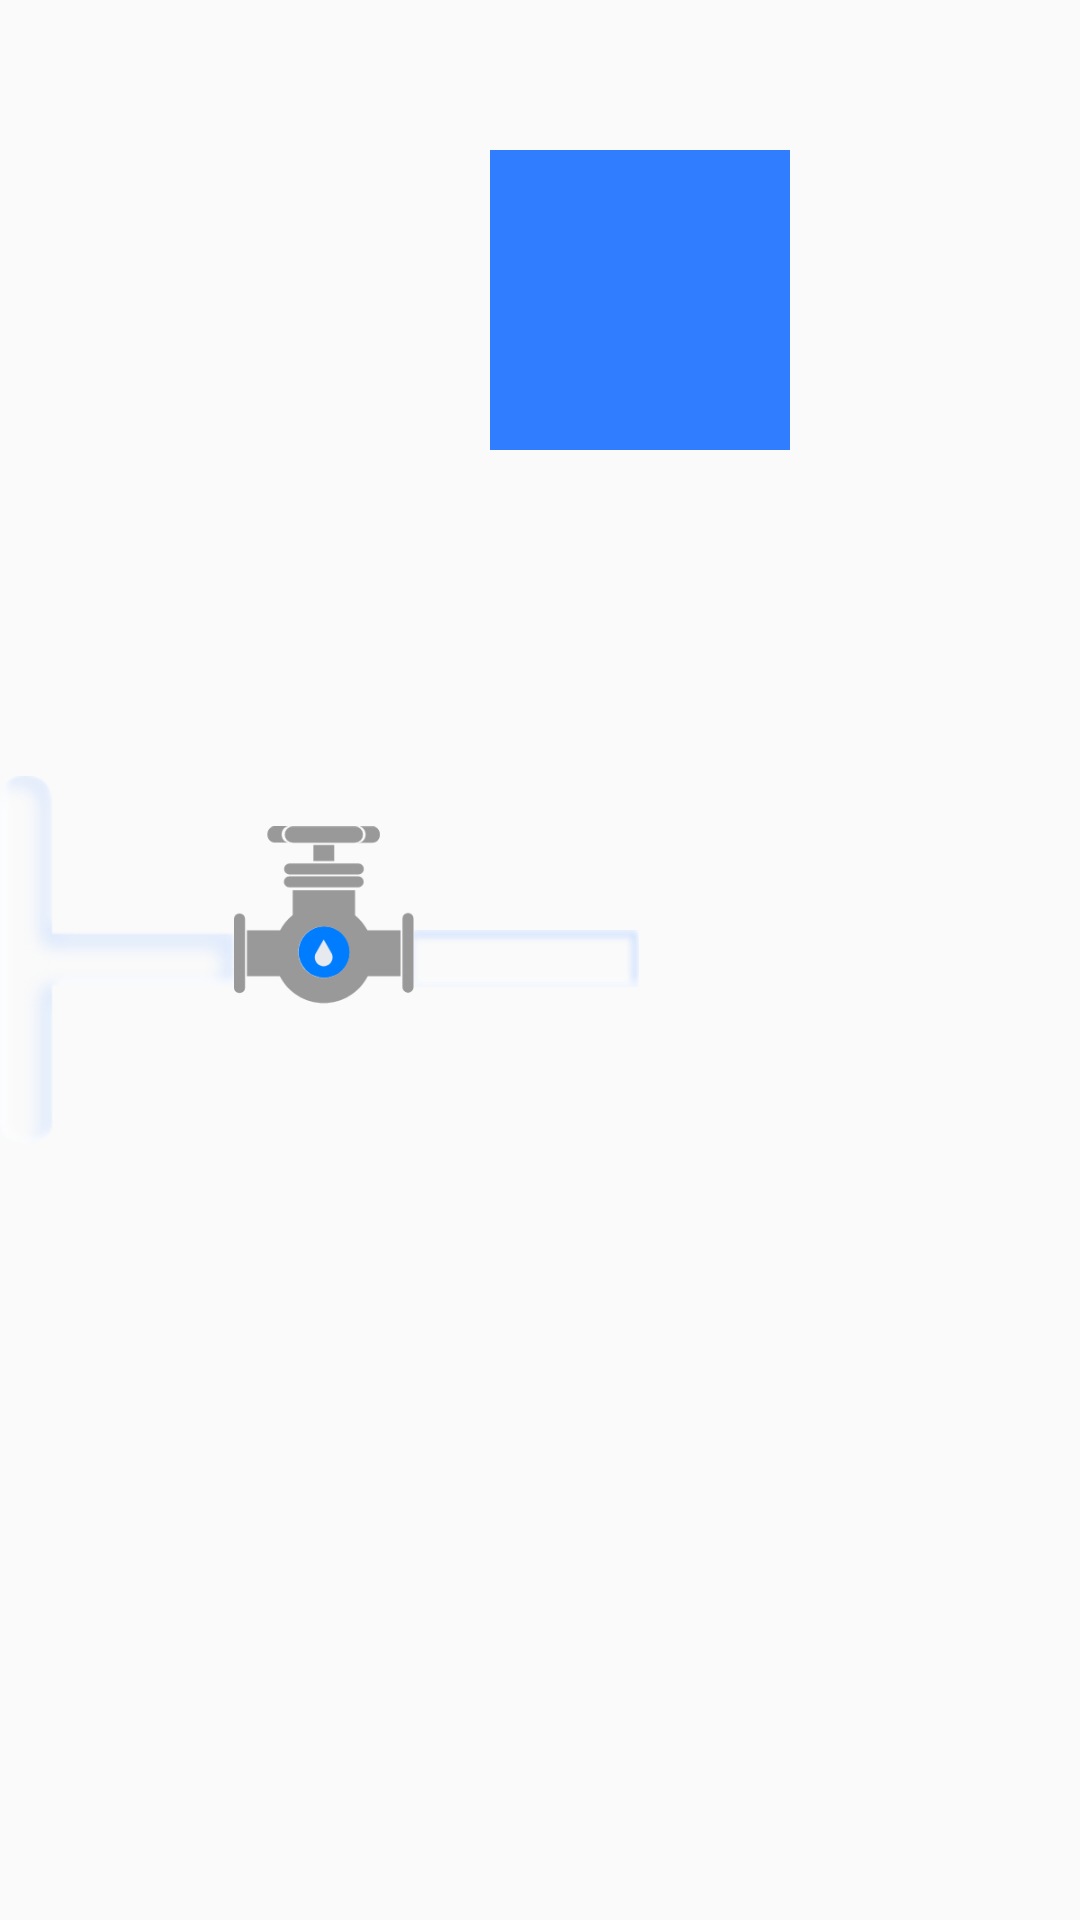

Icon click points for this 1080w x 1920h phone screenshot, format point (x, y):
pipe: point (324, 915)
